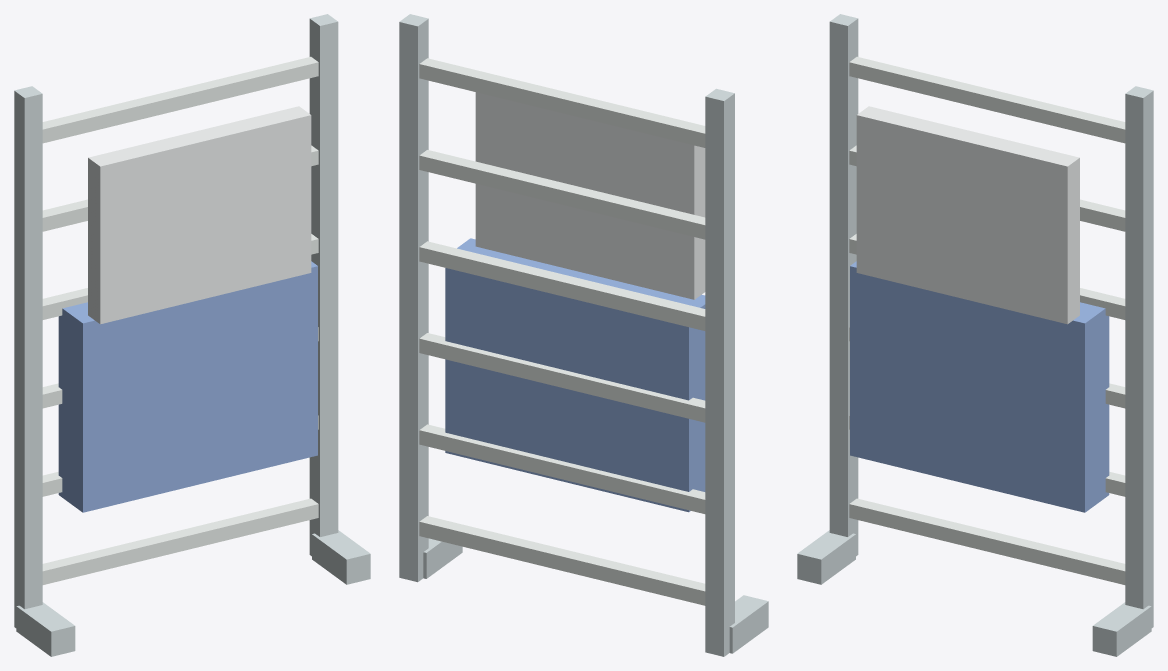
File: towelRail.glb
The picture shows the model from 3 angles, left to right: view 1: azimuth 30°, elevation 25°; view 2: azimuth 150°, elevation 25°; view 3: azimuth 330°, elevation 25°; orthographic projection. The views are drawn at different scales.
Visible parts, largest first — view 1: towelRail; view 2: towelRail; view 3: towelRail.
Part boxes in pixels (box(x1,y1,x2,y2)): towelRail: box(14, 14, 370, 656); towelRail: box(399, 14, 768, 656); towelRail: box(797, 14, 1153, 656).
Size of the model in its own units: 0.265 by 0.425 by 0.0575.
